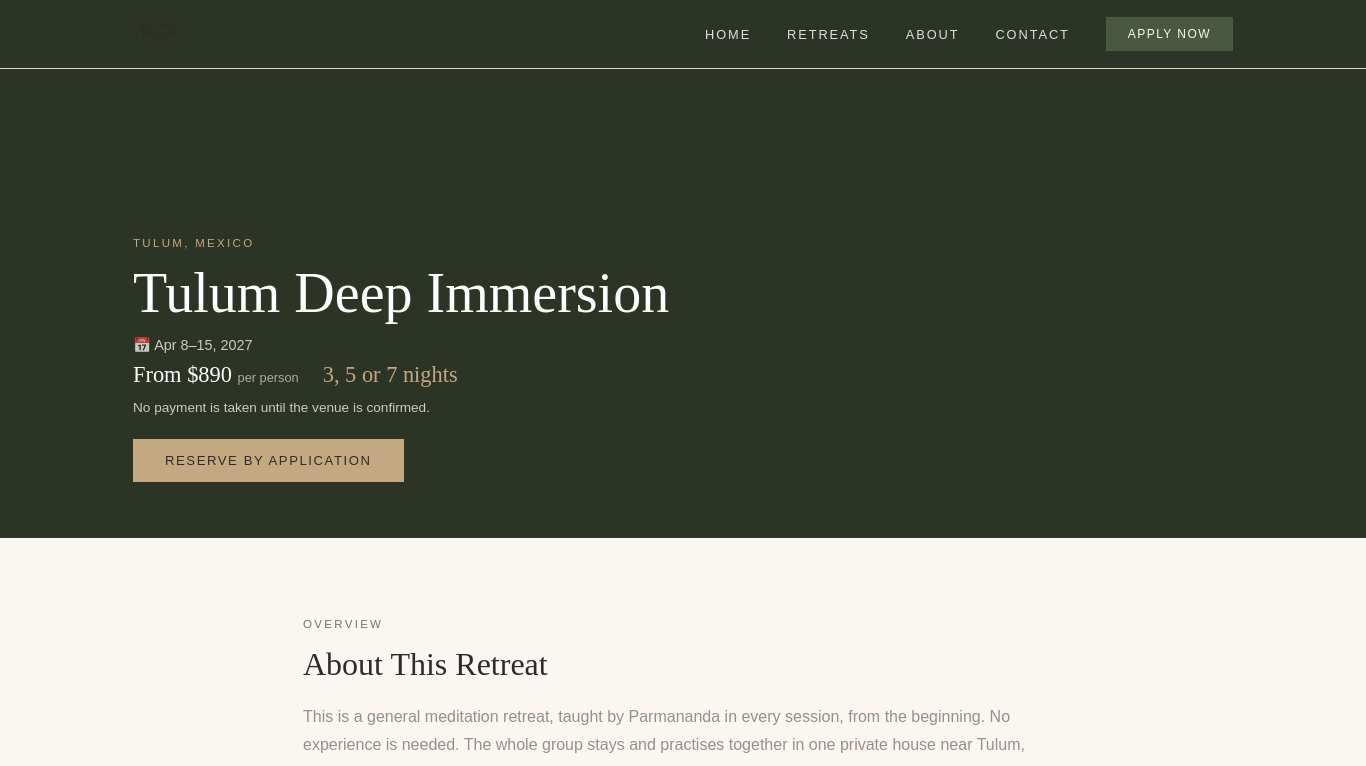
Scenario: Deep Immersion shows the approved prices and takes no payment
Expected: the element that starts with "Tulum, Mexico" shows "$890", [187, 362, 232, 387]
Click the button "Reserve by Application" at (268, 460), box [133, 439, 404, 482]
(page scrolled)
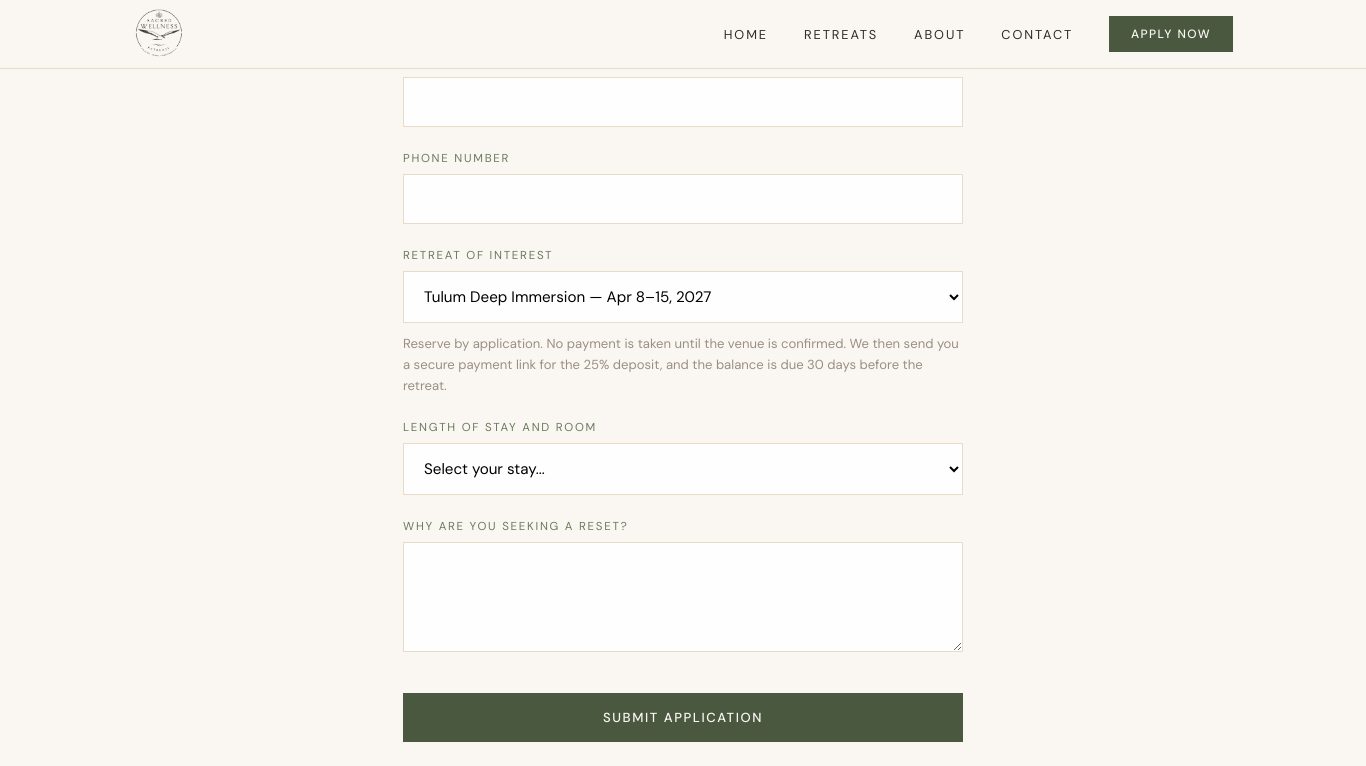
Now the text "Length of Stay and Room" is shown, box [403, 420, 597, 435]
